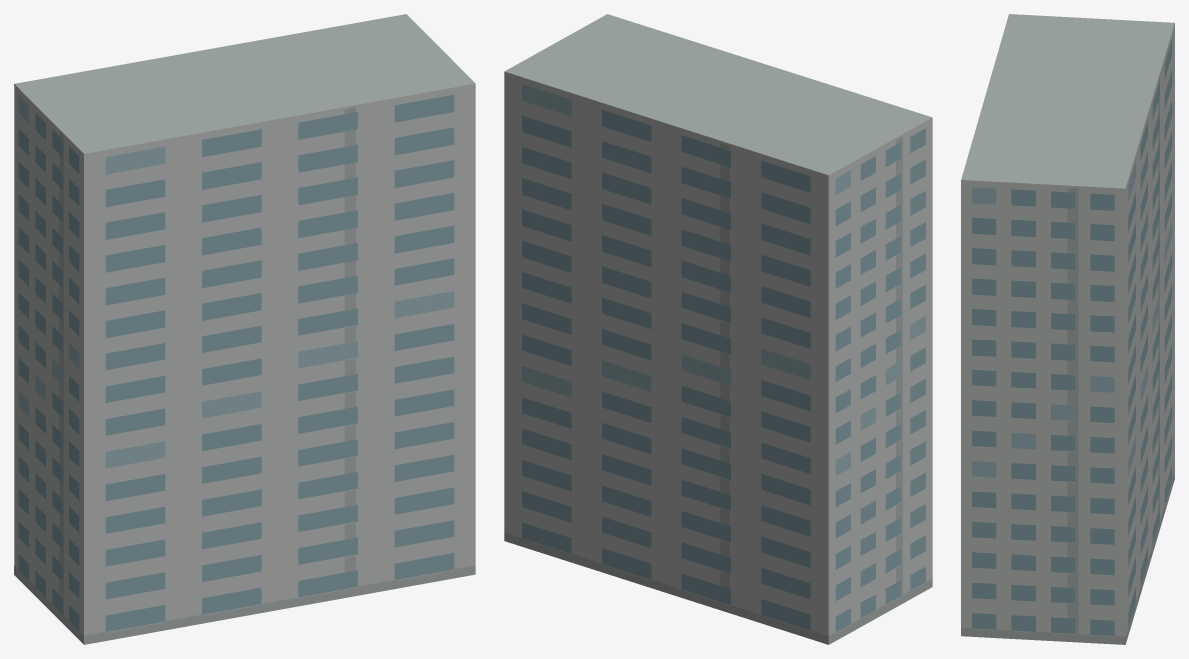
Rendered from residential-fbc9df20-8bb7-41d1-b56a-a25d8b28853d.glb.
The picture shows the model from 3 angles, left to right: view 1: azimuth 30°, elevation 25°; view 2: azimuth 150°, elevation 25°; view 3: azimuth 270°, elevation 25°; orthographic projection. The views are drawn at different scales.
Parts seen in each view (by area): view 1: residential-fbc9df20-8bb7-41d1-b56a-a25d8b28853d.tmp; view 2: residential-fbc9df20-8bb7-41d1-b56a-a25d8b28853d.tmp; view 3: residential-fbc9df20-8bb7-41d1-b56a-a25d8b28853d.tmp.
Boxes of the visible parts, bbox=[...] form: residential-fbc9df20-8bb7-41d1-b56a-a25d8b28853d.tmp: bbox=[14, 14, 475, 644]; residential-fbc9df20-8bb7-41d1-b56a-a25d8b28853d.tmp: bbox=[504, 14, 932, 644]; residential-fbc9df20-8bb7-41d1-b56a-a25d8b28853d.tmp: bbox=[961, 14, 1174, 644].
Size of the model in its own units: 43.52 by 53 by 22.52.
